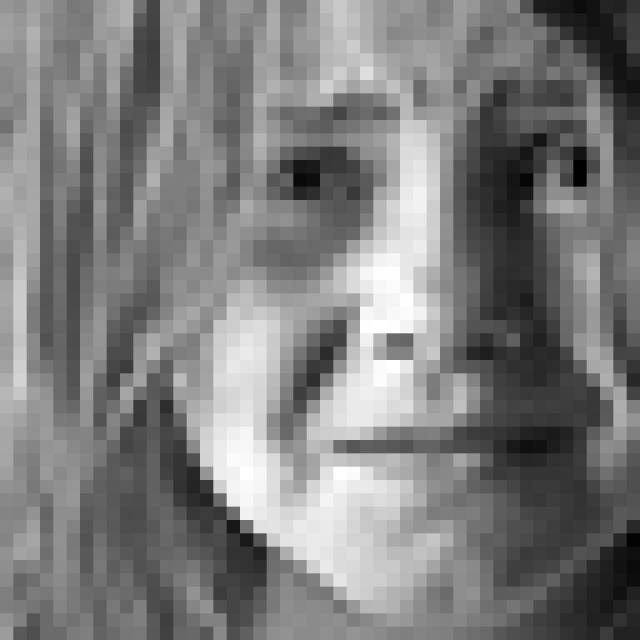sad: (238, 69, 640, 530)
